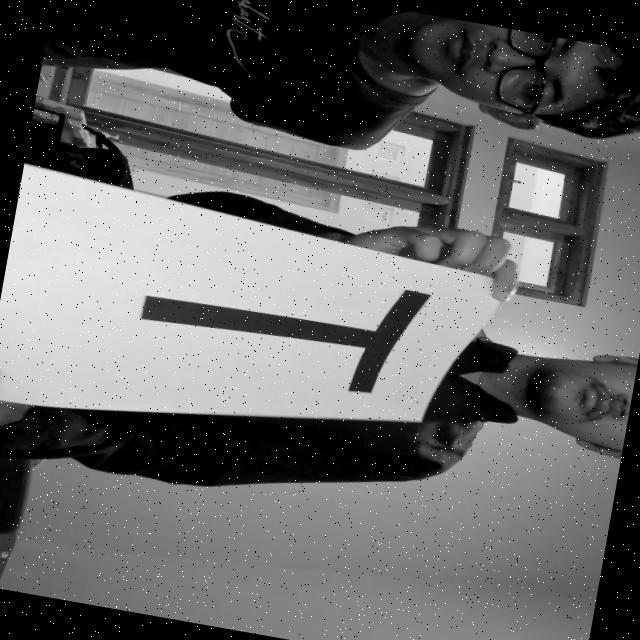t: (113, 237, 440, 412)
